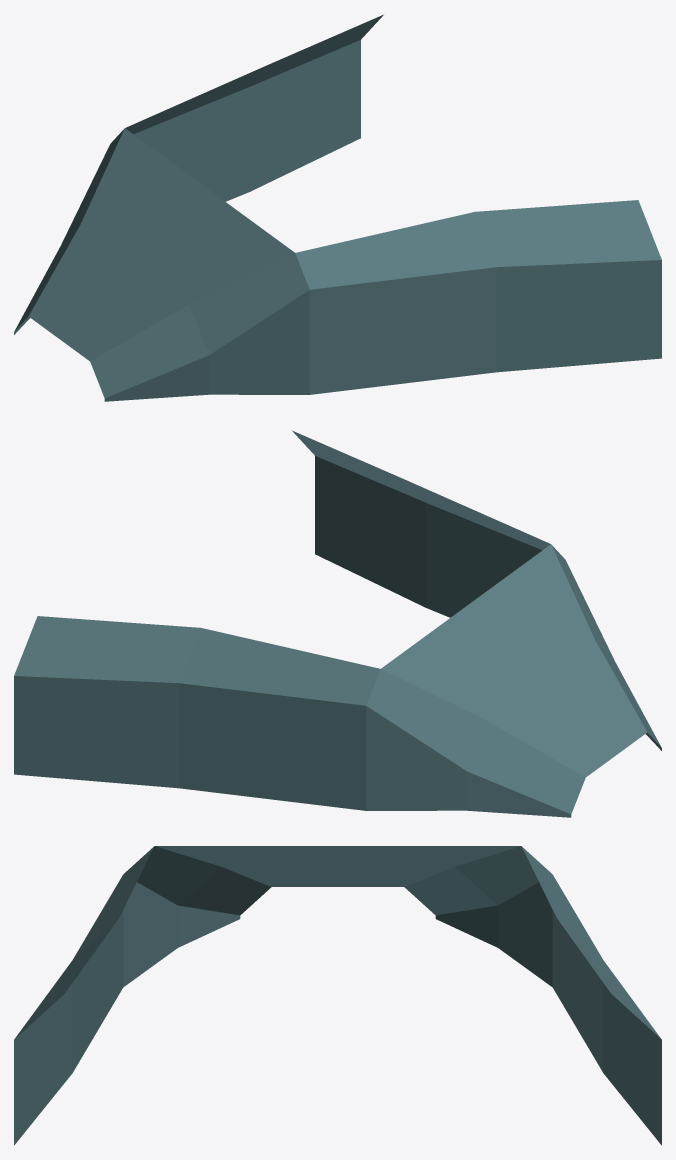
The model's file is kestrel_canopy.glb.
3 renders of one model, top to bottom at view 1: azimuth 30°, elevation 25°; view 2: azimuth 150°, elevation 25°; view 3: azimuth 270°, elevation 25°, orthographic. The views are drawn at different scales.
Parts seen in each view (by area): view 1: glass_canopy; view 2: glass_canopy; view 3: glass_canopy.
Part boxes in pixels (x1=…): glass_canopy: x1=14, y1=14, x2=661, y2=401; glass_canopy: x1=14, y1=430, x2=661, y2=817; glass_canopy: x1=14, y1=846, x2=661, y2=1145.
Bounding box in the file's own units: 7.2 × 2.35 × 8.3.
